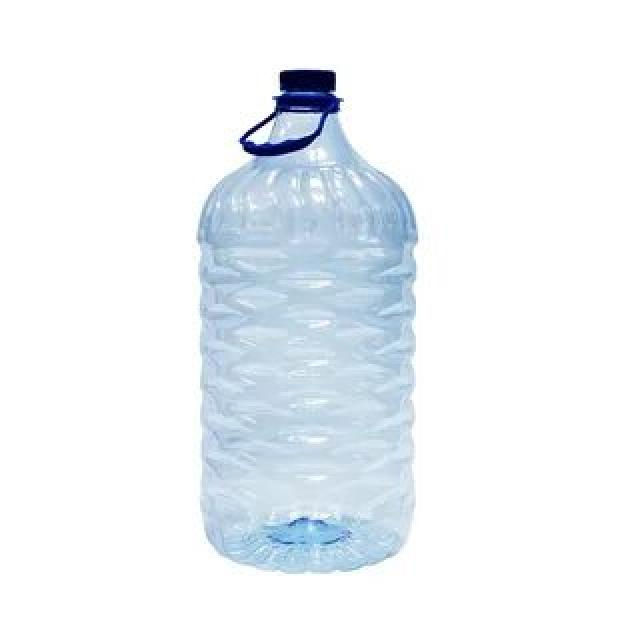blue: (195, 111, 418, 572)
